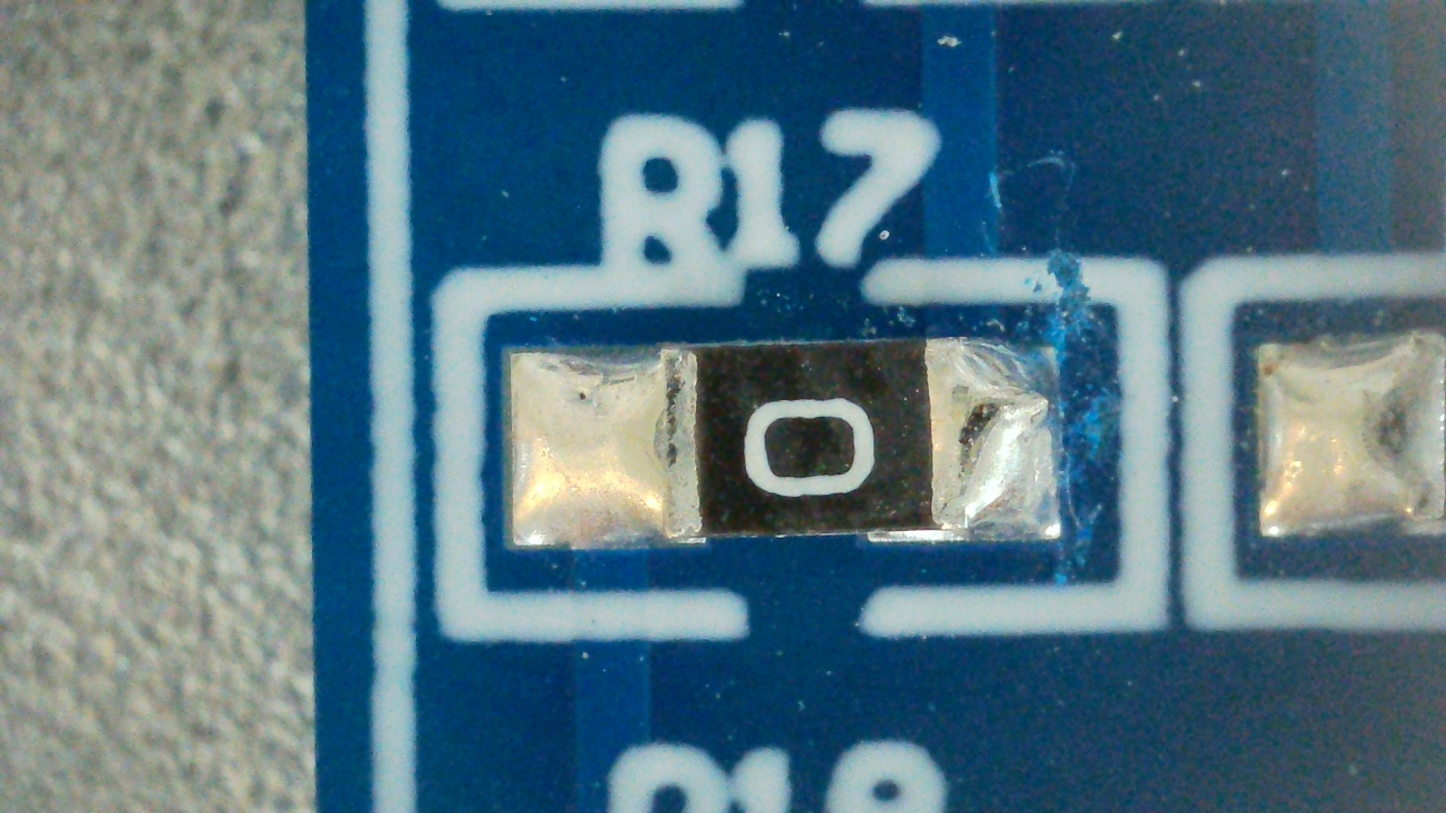OK: (512, 342, 1061, 547)
